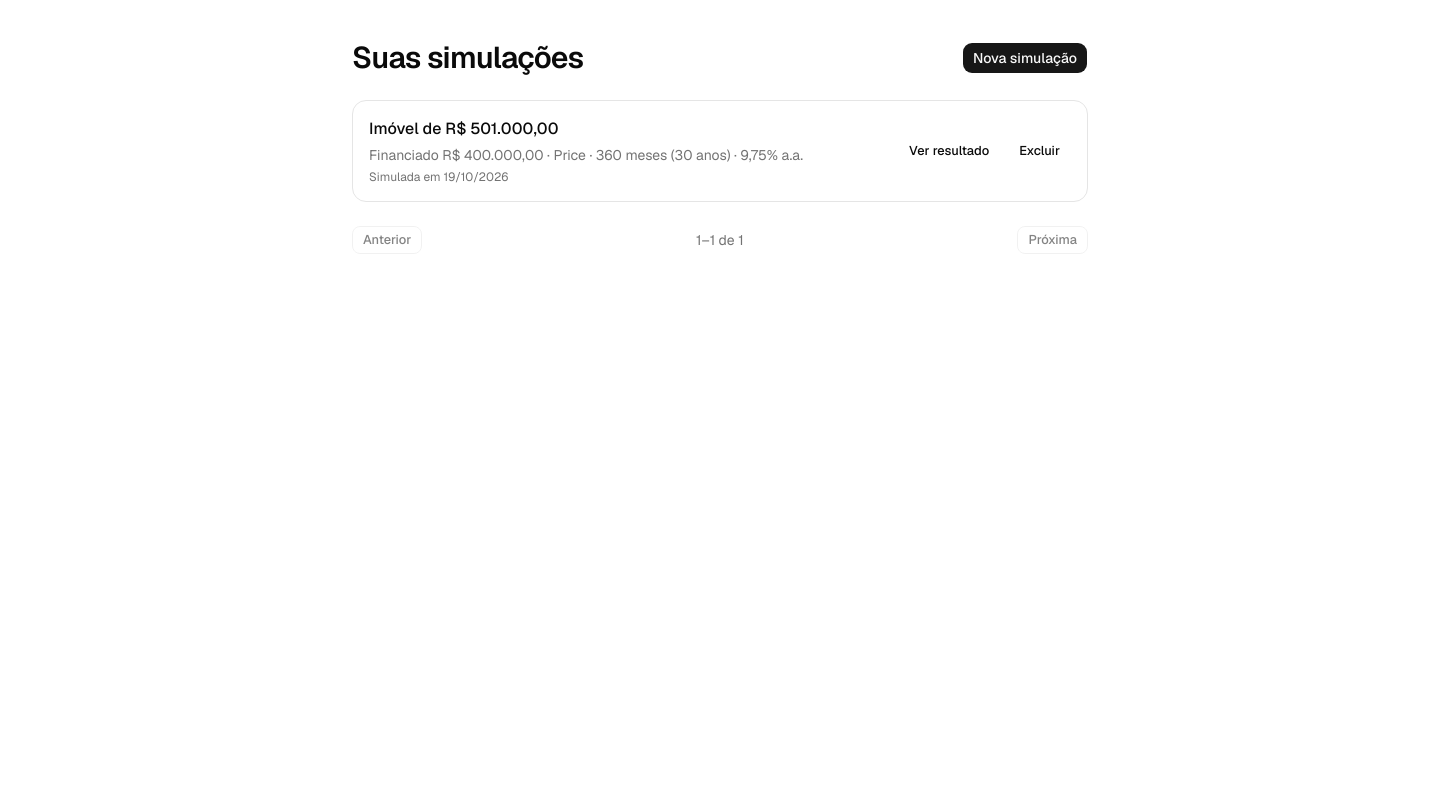
Test: SimulationHistory › cancelar não exclui nada
The width and height of the screenshot is (1440, 810).
Click the button with aria-label "Excluir:" at (1040, 151), box left=1008, top=137, right=1071, bottom=165
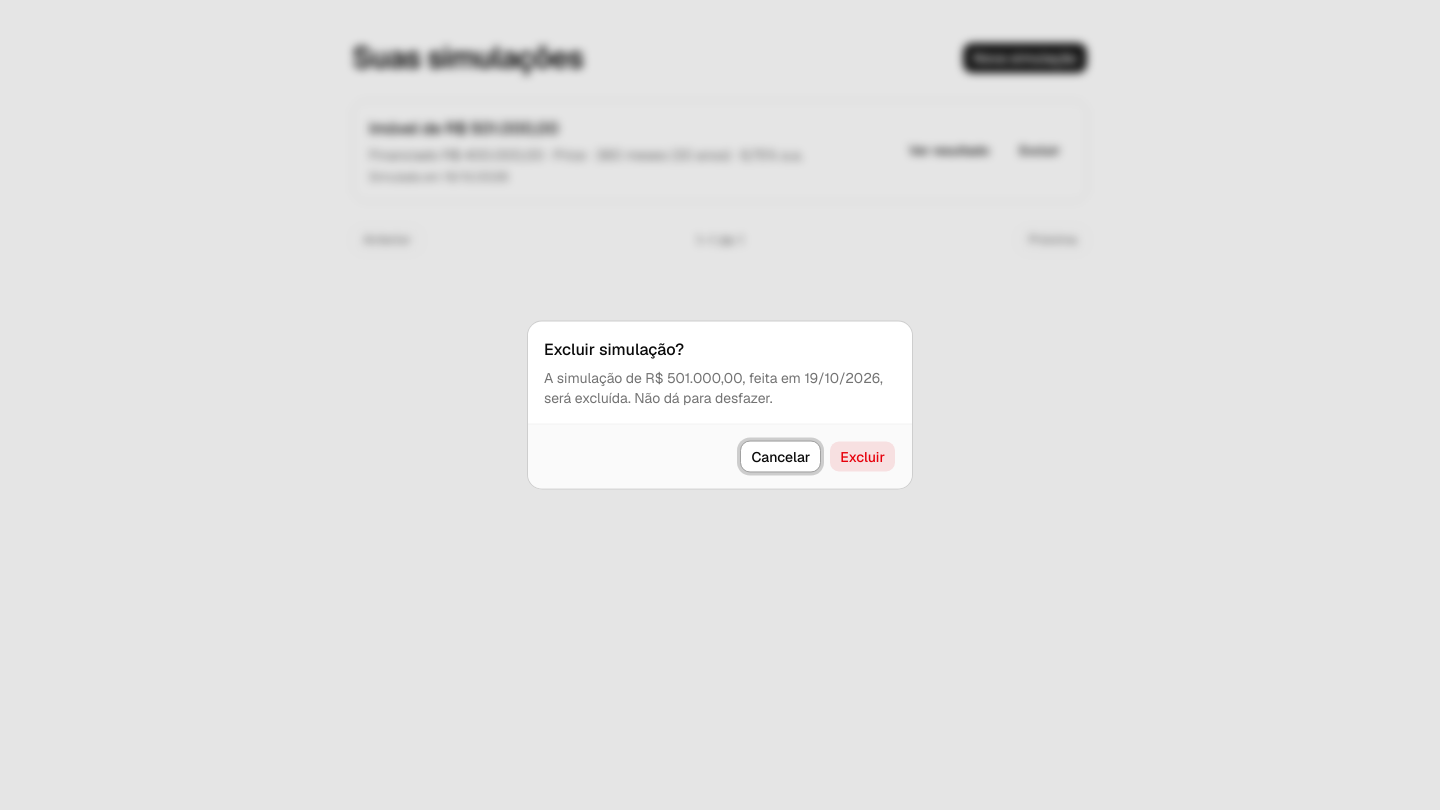
Click the button "Cancelar" at (781, 456), box left=740, top=440, right=821, bottom=472
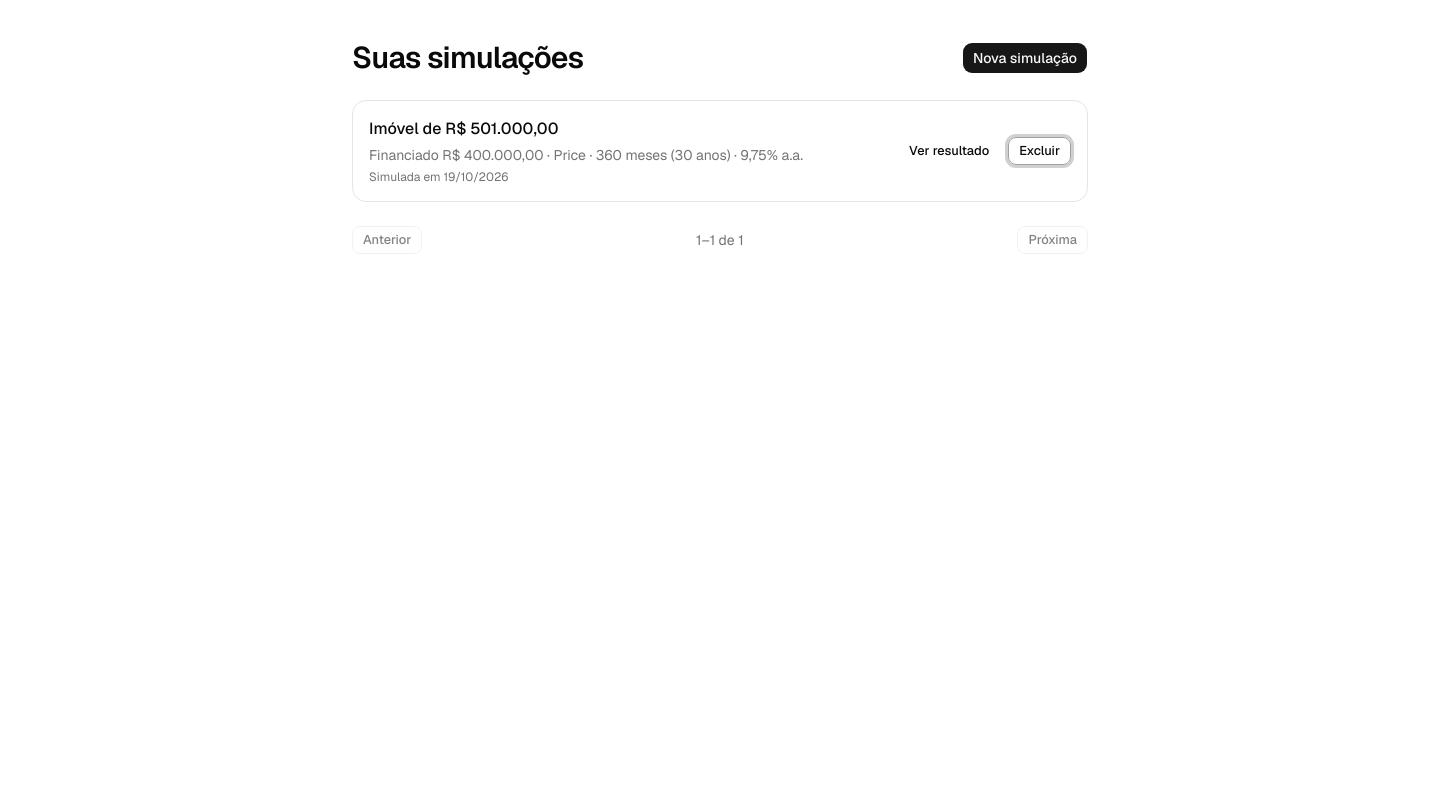
Expected: the dialog is gone
